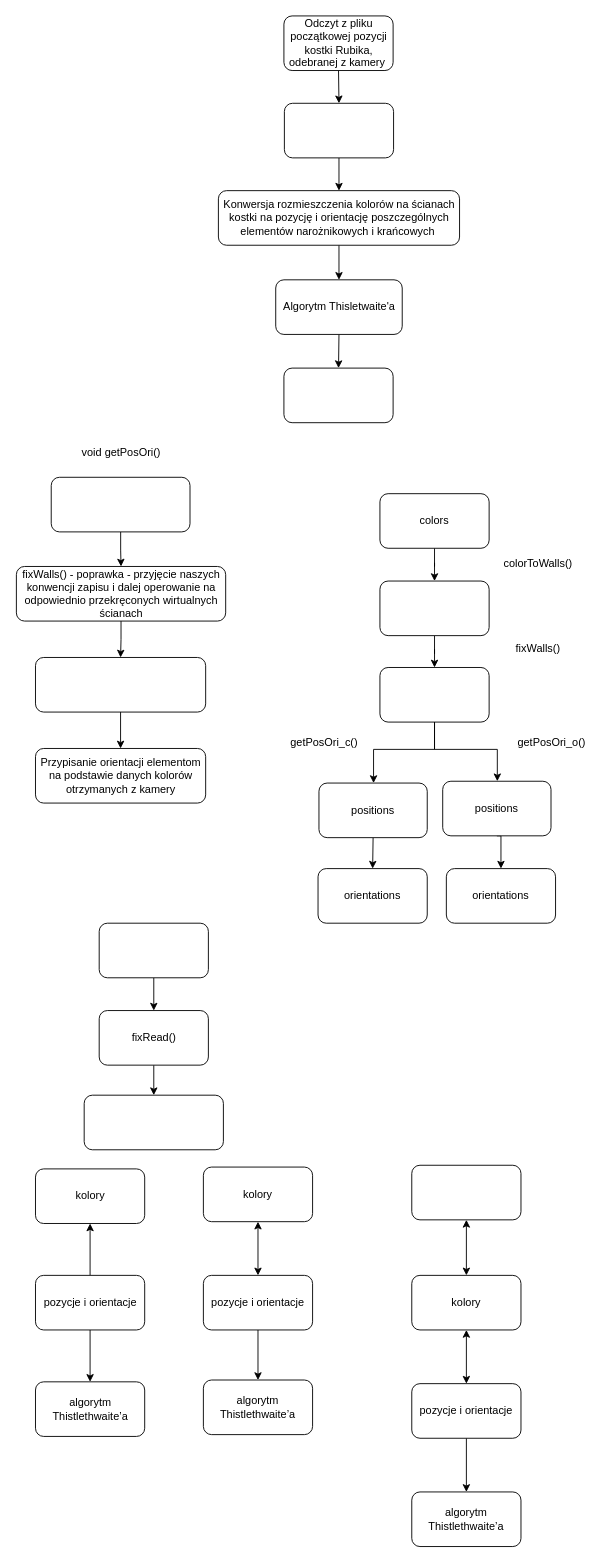
This 602x1562 diagram has some shape labels left out. The box of each missing label's shape, as (x1, y1, x2, y2) in pixels:
colorToWalls() - przypisanie wirtualnym ścianom obecnych kolorów: (50, 476, 190, 532)
convertColorsToNotation(): (83, 1094, 223, 1150)
Konwersja kolorów na ogólną notację RLUDFB: (283, 102, 394, 158)
Przypisanie pozycji elementom na podstawie danych kolorów otrzymanych z kamery: (35, 657, 206, 712)
readFromFile(): (98, 922, 208, 978)
walls: (379, 580, 489, 636)
walls (fixed): (379, 667, 489, 722)
Zapis listy wykonanych ruchów do pliku tekstowego: (283, 367, 393, 423)
ściany: (411, 1164, 521, 1220)
